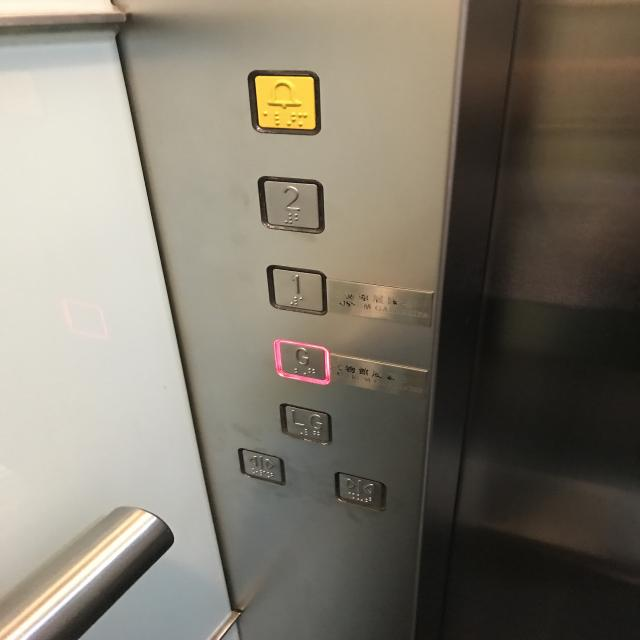1: (264, 262, 329, 317)
2: (255, 173, 327, 235)
G: (271, 336, 333, 387)
LG: (276, 400, 334, 448)
alarm: (244, 68, 323, 138)
close: (332, 470, 388, 512)
open: (235, 446, 288, 486)
